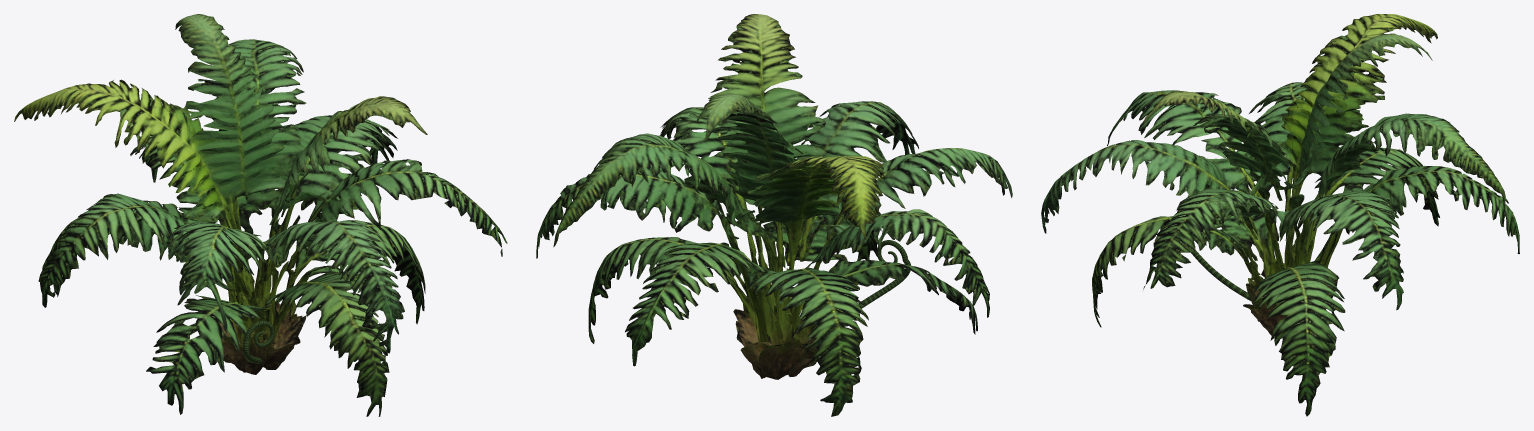
3 renders of one model, left to right at view 1: azimuth 30°, elevation 25°; view 2: azimuth 150°, elevation 25°; view 3: azimuth 270°, elevation 25°, orthographic. The views are drawn at different scales.
Parts seen in each view (by area): view 1: geometry_0; view 2: geometry_0; view 3: geometry_0.
Part boxes in pixels (box(x1,y1,x2,y2)): geometry_0: box(14, 14, 507, 416); geometry_0: box(536, 14, 1012, 416); geometry_0: box(1041, 14, 1519, 416).
Size of the model in its own units: 1.36 by 1.05 by 1.52.
Materials: 1 (1 with a texture image).
